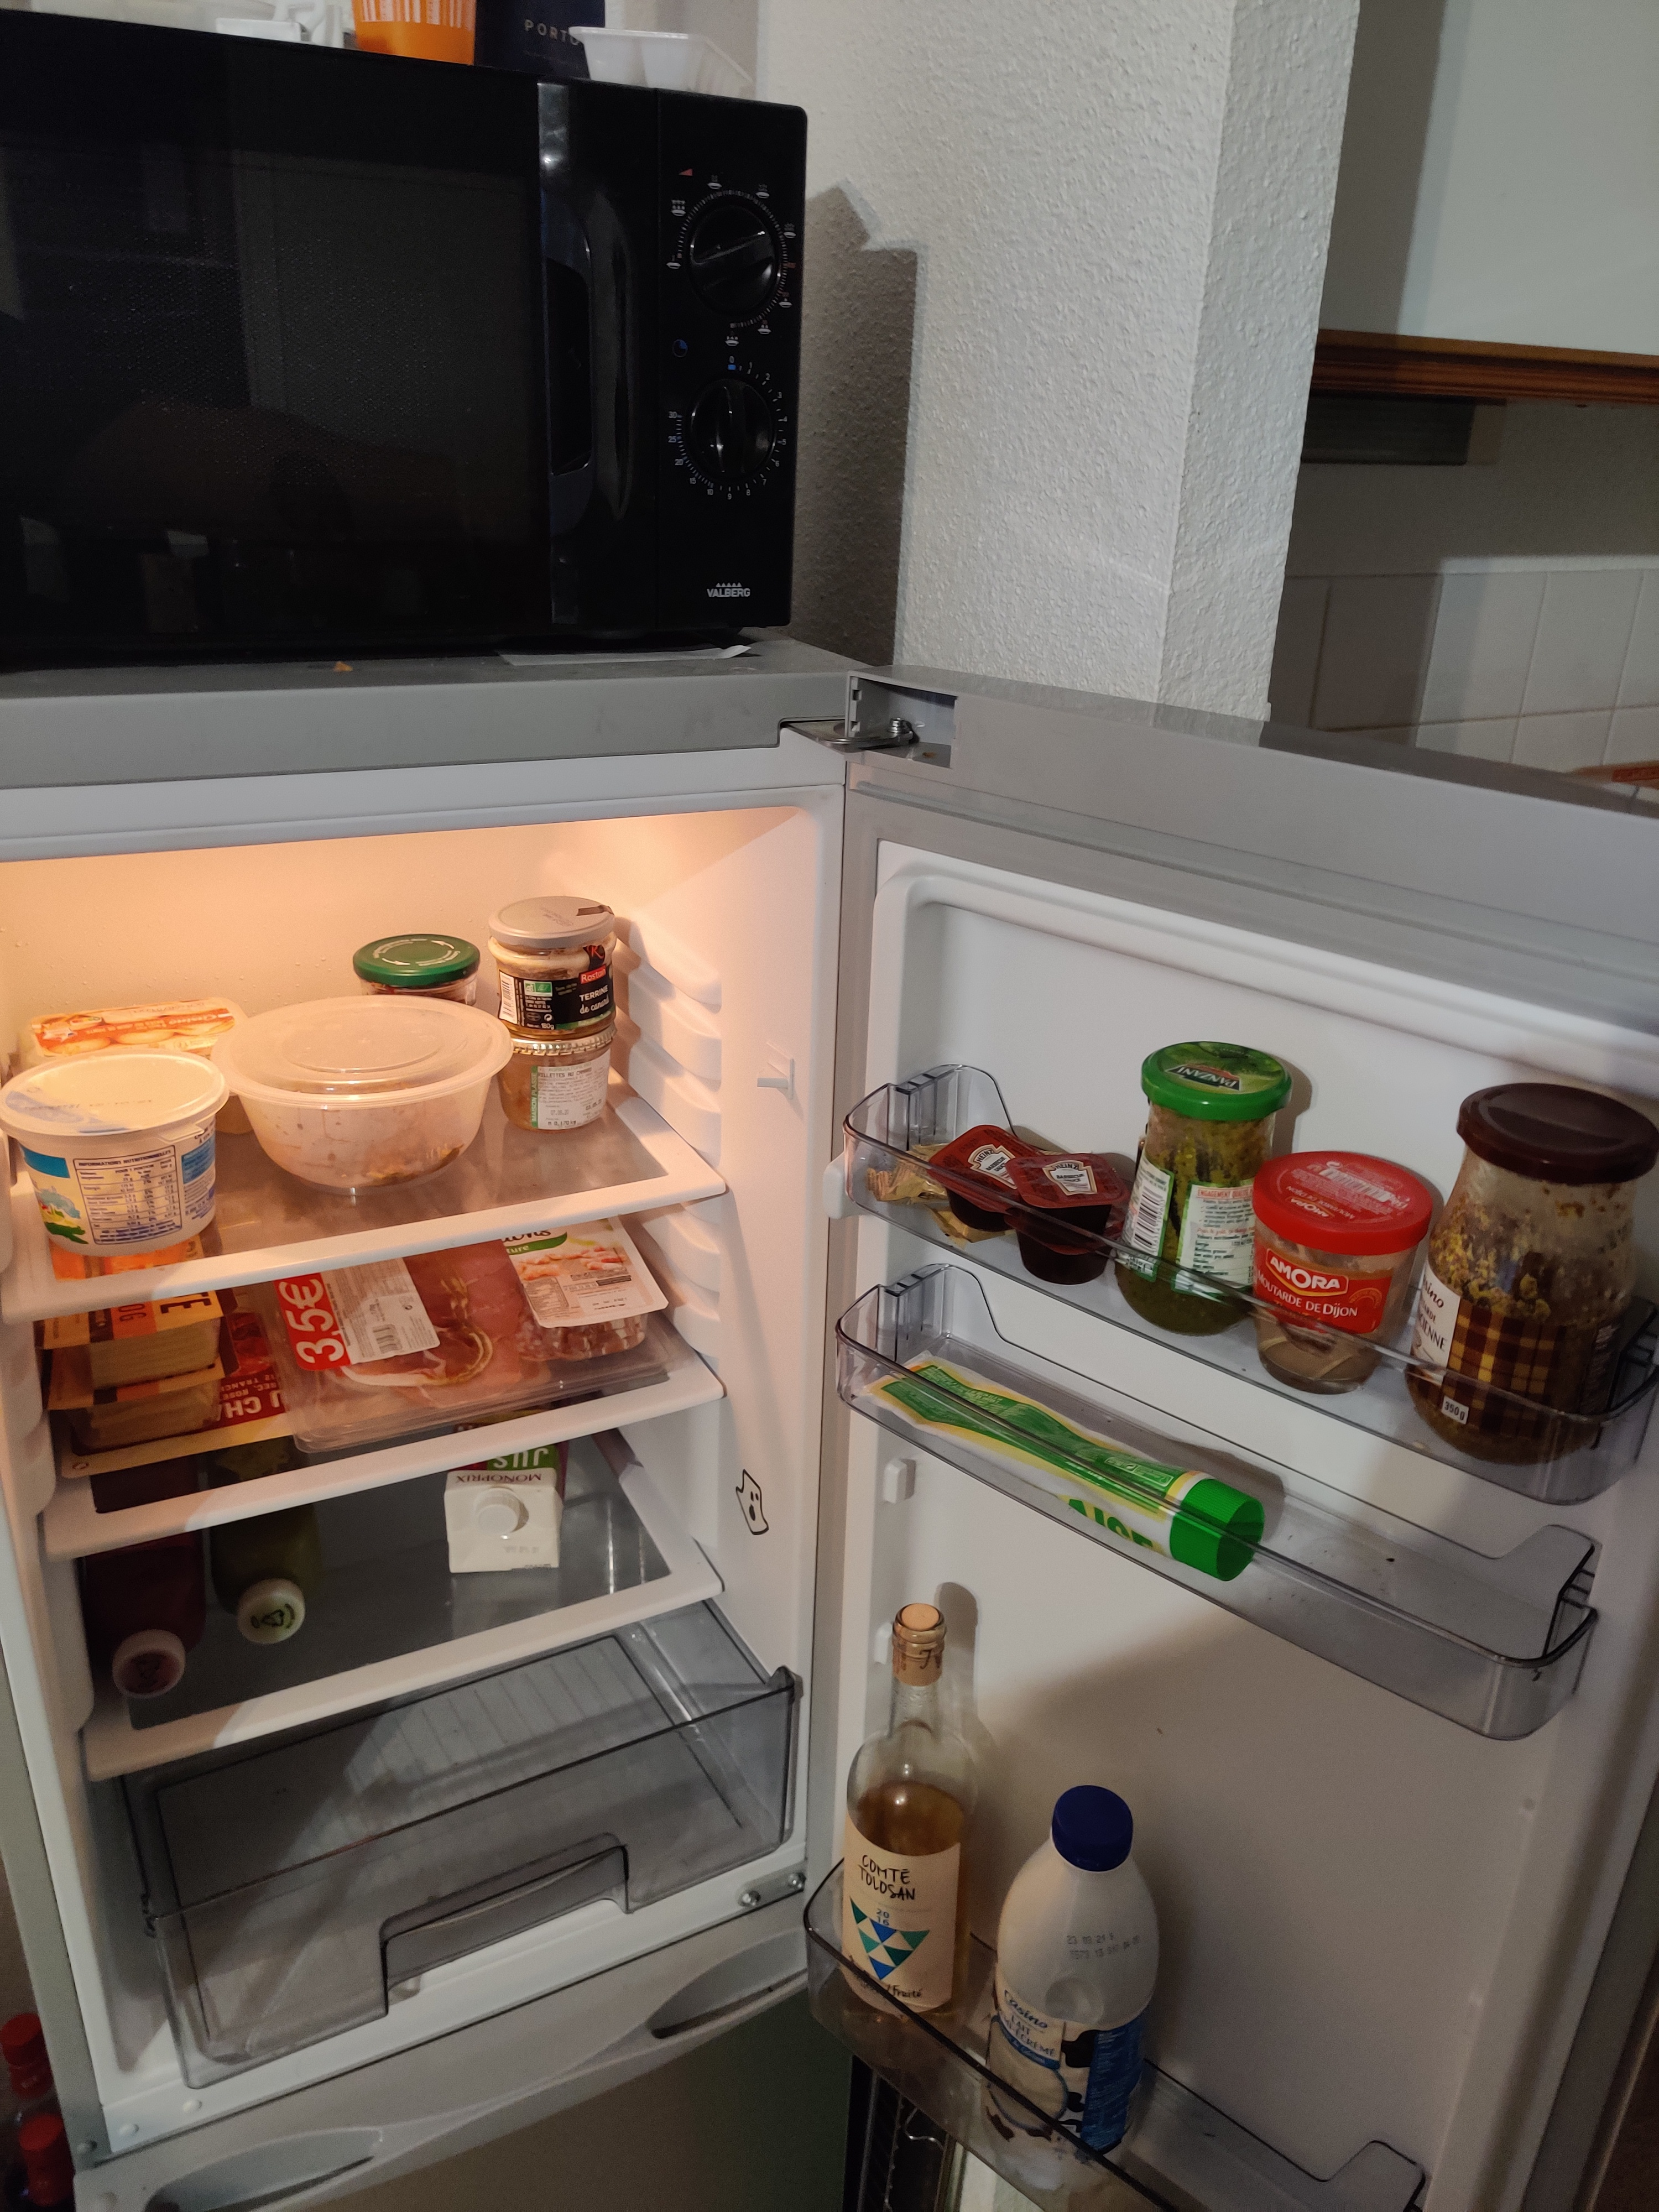bottle: (842, 1608, 986, 2048), (443, 1444, 565, 1588), (106, 1554, 193, 1705), (221, 1512, 319, 1642)
cream: (7, 1050, 228, 1256)
milk: (983, 1764, 1162, 2184)
